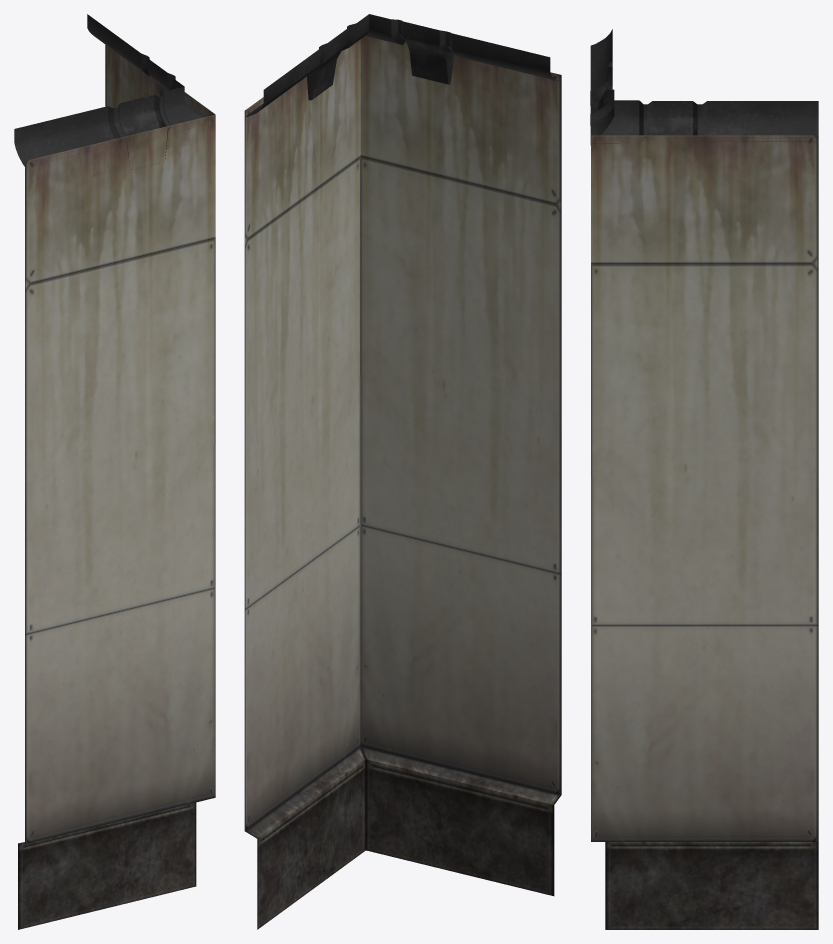
Rendered from lab_concave_skinny.dae.
3 renders of one model, left to right at view 1: azimuth 30°, elevation 25°; view 2: azimuth 150°, elevation 25°; view 3: azimuth 270°, elevation 25°, orthographic. The views are drawn at different scales.
Parts seen in each view (by area): view 1: lab_concave_skinny; view 2: lab_concave_skinny; view 3: lab_concave_skinny.
Part boxes in pixels (left/top/right/bottom): lab_concave_skinny: left=14, top=14, right=215, bottom=929; lab_concave_skinny: left=244, top=14, right=561, bottom=929; lab_concave_skinny: left=590, top=29, right=818, bottom=929.
Bounding box in the file's own units: 1 × 4 × 1.
